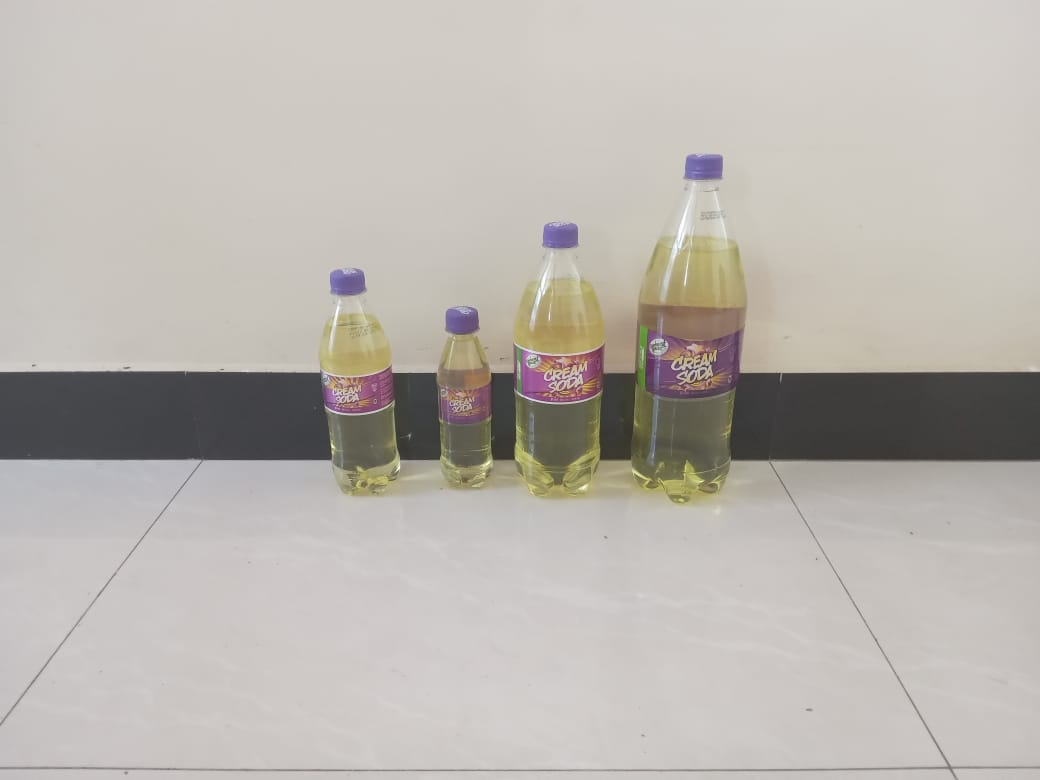L: (630, 157, 748, 504)
M: (511, 223, 609, 497)
S: (313, 267, 406, 499)
Xs: (433, 306, 499, 492)
